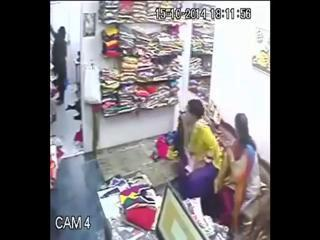shoplifting: (178, 99, 223, 174)
